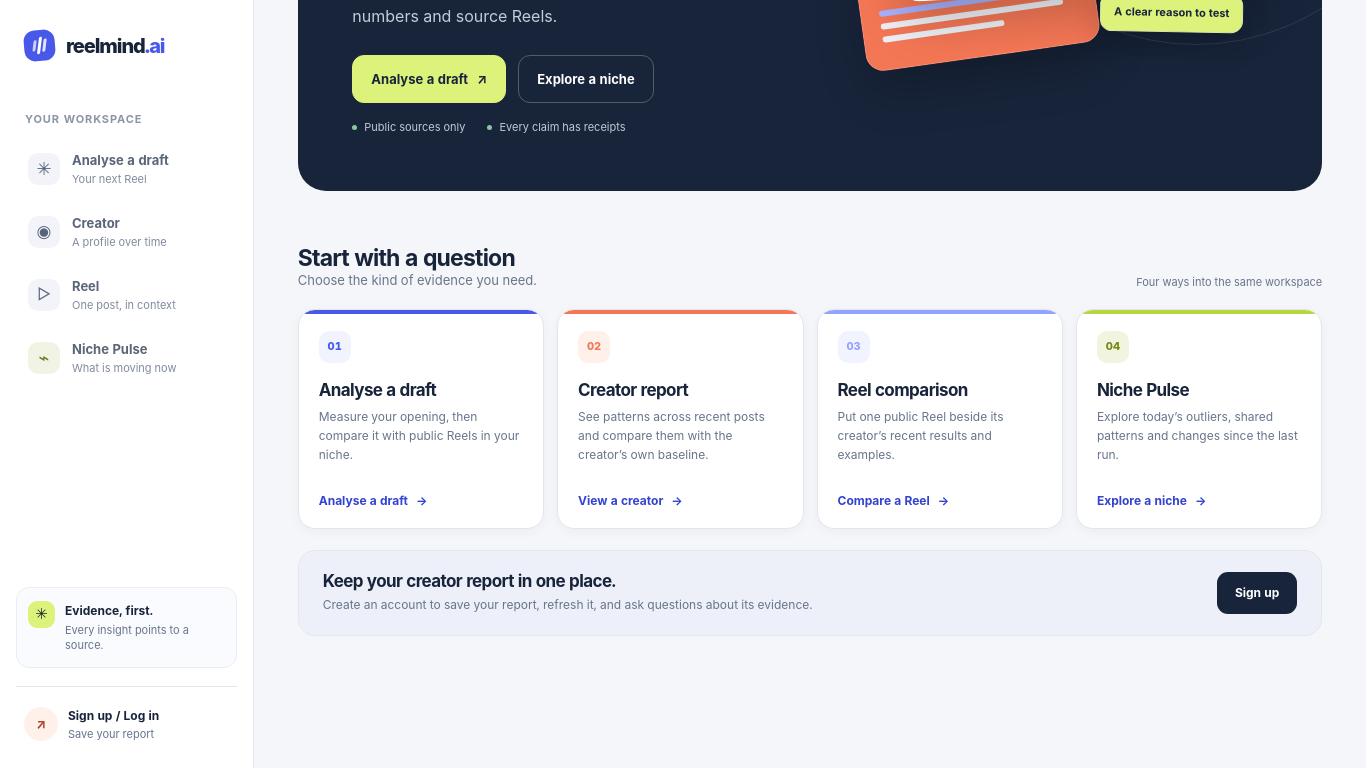
Test: home page › offers sign-up to logged-out visitors
(page scrolled)
Click the button "Sign up" at [1257, 593], box [1217,572,1297,614]
(page scrolled)
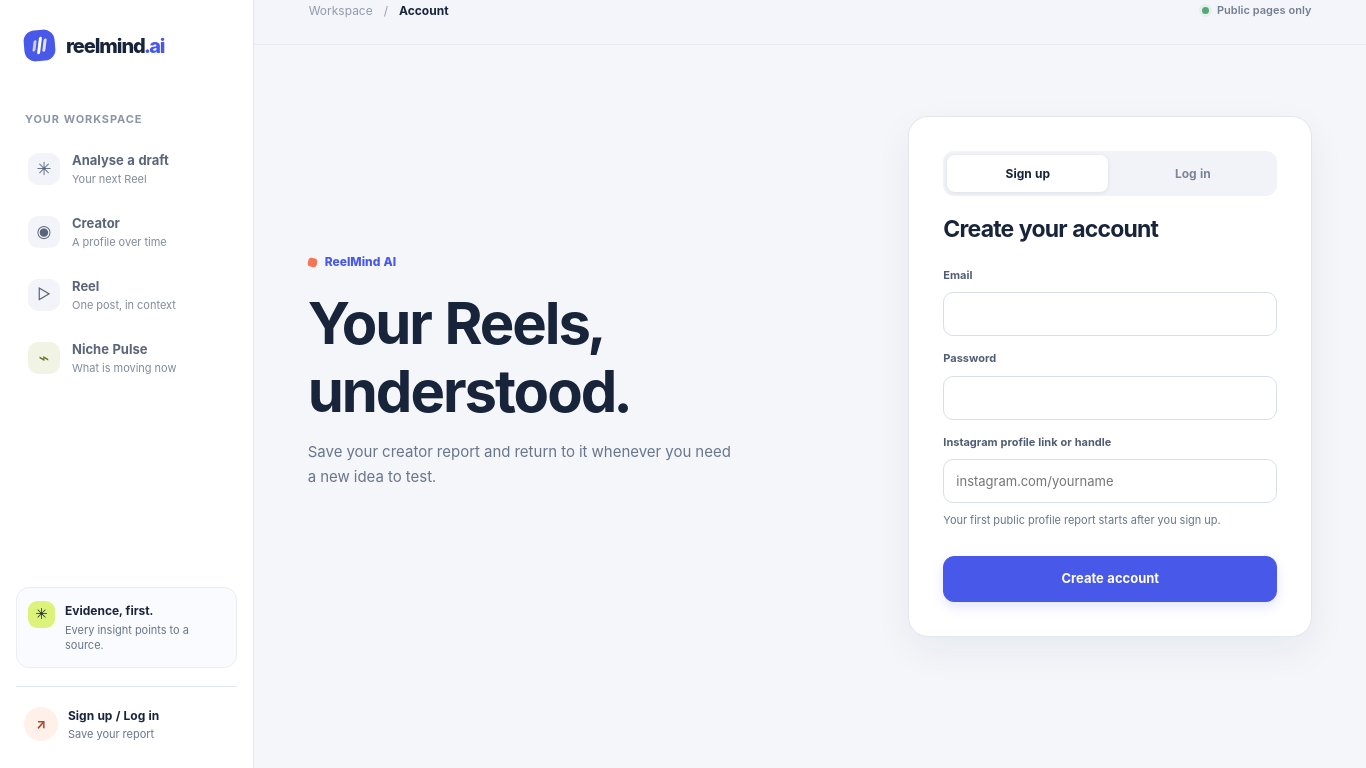
Expected: the heading "Create your account" is shown, [943,215,1158,243]
